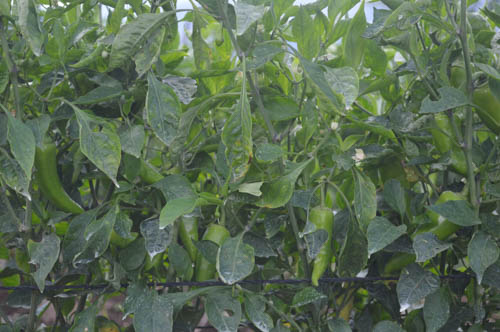ChiliPepper: (380, 192, 468, 269), (37, 141, 79, 211), (303, 207, 331, 286), (193, 222, 231, 278), (180, 215, 196, 249)
